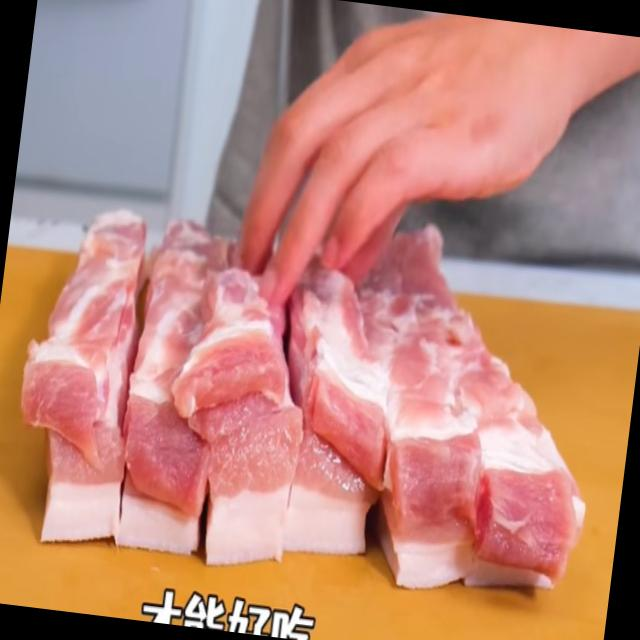pork: (328, 230, 622, 632), (22, 217, 148, 535), (115, 222, 229, 550), (174, 272, 299, 564), (282, 258, 381, 553)
